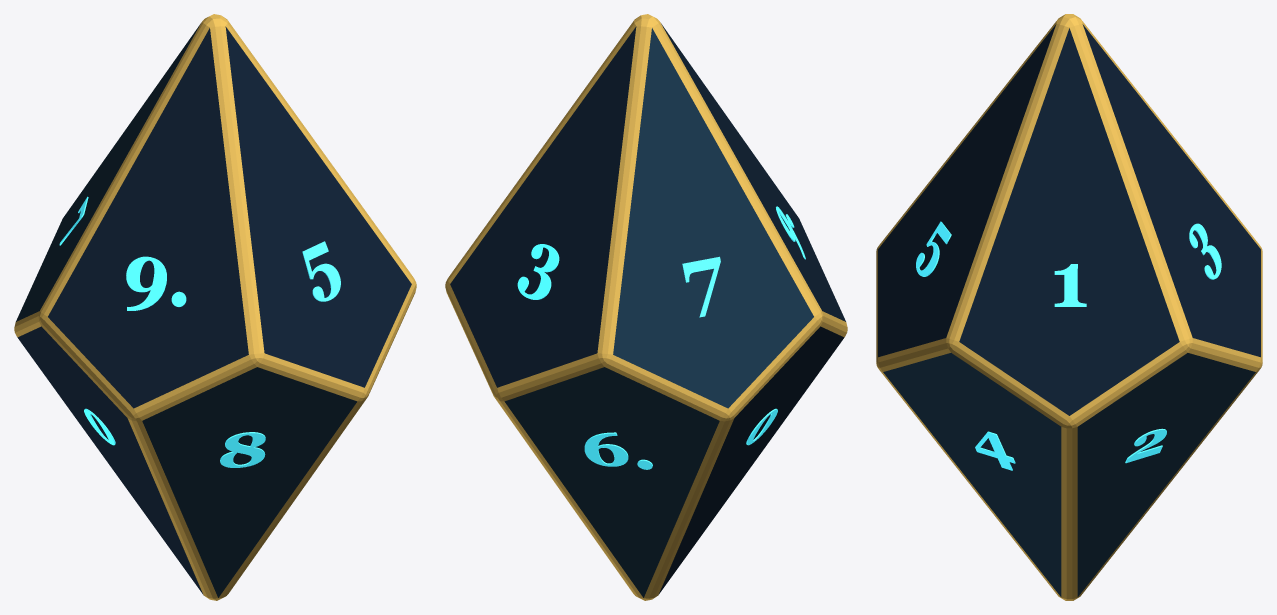
Rendered from dunits_leo.glb.
3 renders of one model, left to right at view 1: azimuth 30°, elevation 25°; view 2: azimuth 150°, elevation 25°; view 3: azimuth 270°, elevation 25°, orthographic.
Parts seen in each view (by area): view 1: DiceBody, Number_09, Number_08, Number_05; view 2: DiceBody, Number_03, Number_06, Number_07; view 3: DiceBody, Number_03, Number_01, Number_05, Number_04, Number_02.
Part boxes in pixels (x1,y1,x2,y2): DiceBody: (14, 14, 416, 600); Number_09: (126, 256, 186, 310); Number_08: (220, 432, 265, 467); Number_05: (302, 241, 340, 301); DiceBody: (445, 14, 847, 600); Number_03: (517, 244, 559, 299); Number_06: (584, 432, 652, 469); Number_07: (682, 256, 720, 317); DiceBody: (876, 14, 1262, 600); Number_03: (1189, 223, 1221, 279); Number_01: (1054, 264, 1086, 306); Number_05: (916, 221, 951, 276); Number_04: (975, 431, 1015, 470); Number_02: (1125, 428, 1166, 463).
Bounding box in the file's own units: 2.39 × 3.78 × 2.27.
